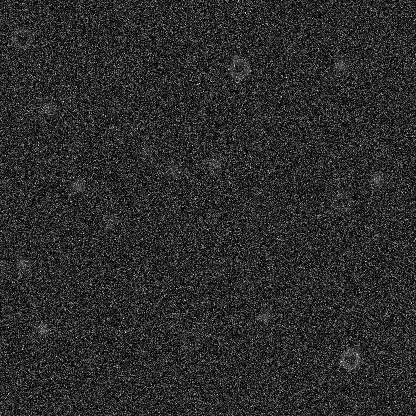Ring: (9, 26, 33, 50), (178, 328, 202, 352), (338, 347, 362, 371), (227, 56, 251, 80), (330, 190, 354, 214), (387, 331, 411, 355)
Spot: (165, 161, 181, 177), (101, 212, 117, 228), (332, 57, 348, 73), (256, 309, 272, 325), (34, 321, 50, 337), (38, 99, 54, 115), (369, 171, 385, 187), (69, 178, 85, 194), (14, 254, 30, 270), (208, 263, 224, 279), (137, 140, 153, 156), (206, 155, 222, 171)
